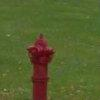Hydrant: (25, 23, 58, 100)
